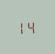four: (27, 20, 34, 33)
one: (19, 20, 26, 34)
